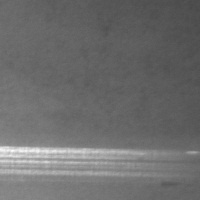scratches: (0, 145, 179, 175)
